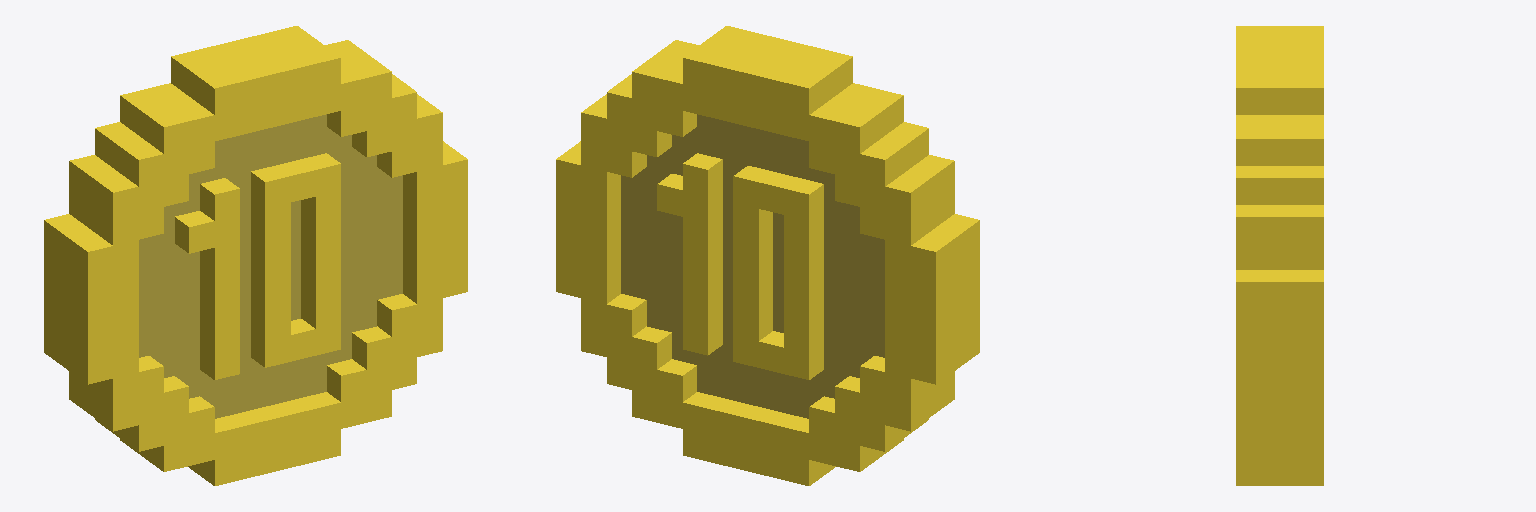
3 views of the same model, side by side, from view 1: azimuth 30°, elevation 25°; view 2: azimuth 150°, elevation 25°; view 3: azimuth 270°, elevation 25° (orthographic).
Parts seen in each view (by area): view 1: object 1; view 2: object 1; view 3: object 1.
Part boxes in pixels (bbox=[...]): object 1: bbox=[44, 26, 467, 485]; object 1: bbox=[556, 26, 979, 485]; object 1: bbox=[1236, 26, 1323, 485].
Size of the model in its own units: 1.5 by 1.5 by 0.3.
1 materials, 1 textured.